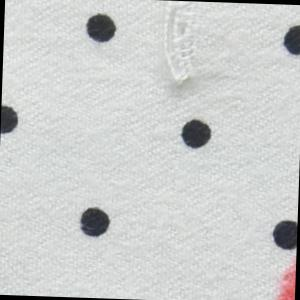Damage: (152, 1, 218, 97)
Stain: (270, 252, 297, 300)
